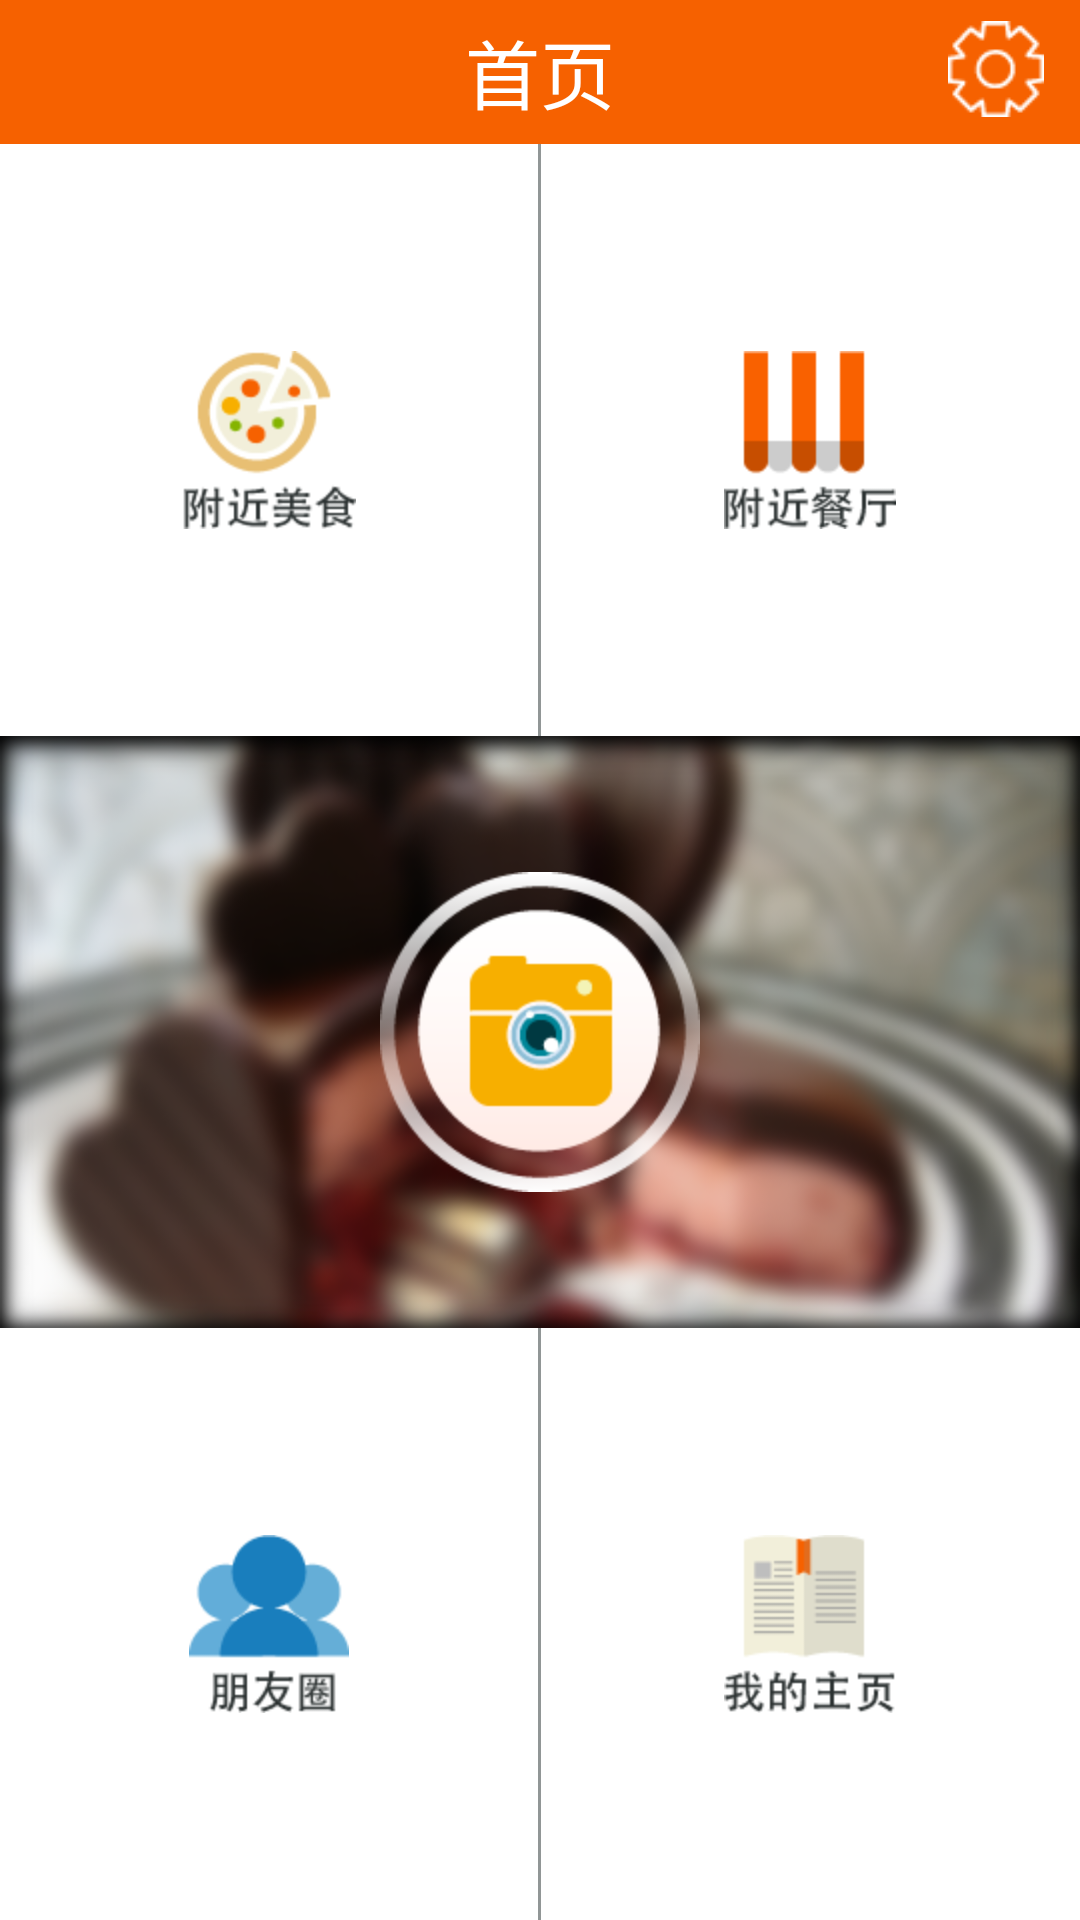

Where to tap for icons on this 1080×1920 app screen, as (x=x, y=y):
camera: (x=540, y=1032)
设置按钮: (x=996, y=69)
